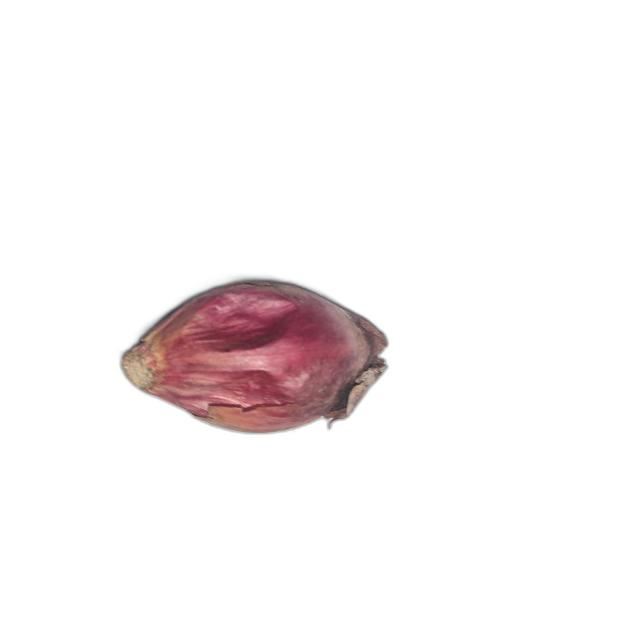onion: (119, 279, 392, 435)
